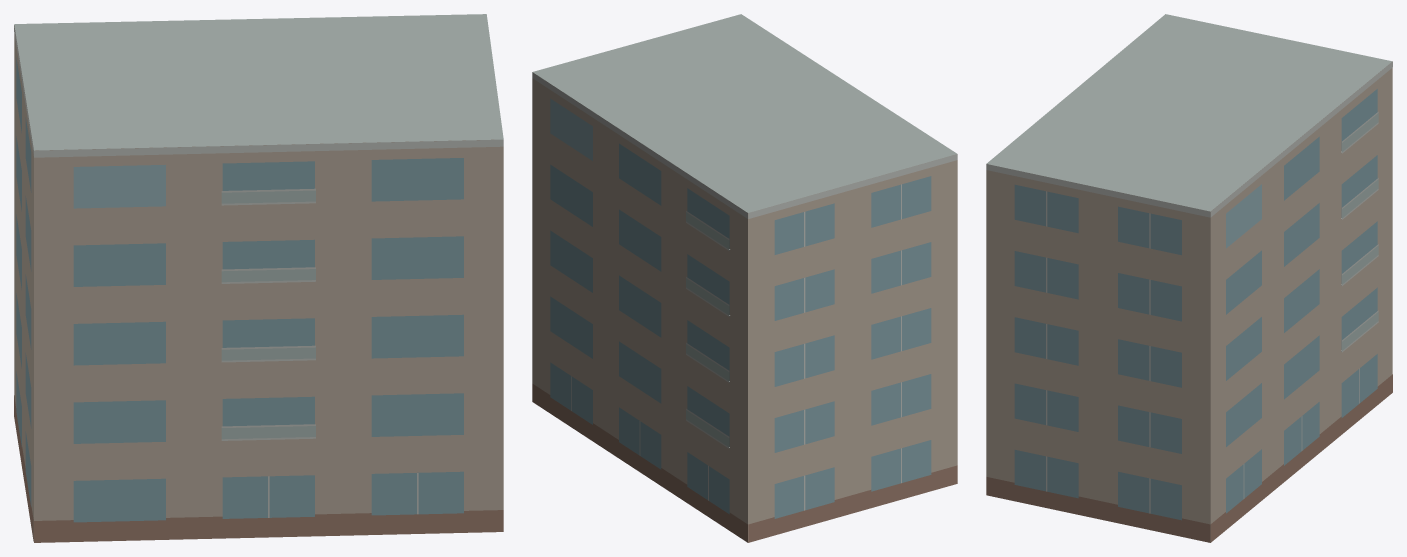
The model's file is survey-upis-32881825.glb.
3 views of the same model, side by side, from view 1: azimuth 30°, elevation 25°; view 2: azimuth 150°, elevation 25°; view 3: azimuth 270°, elevation 25° (orthographic). The views are drawn at different scales.
Parts seen in each view (by area): view 1: survey-upis-32881825.tmp; view 2: survey-upis-32881825.tmp; view 3: survey-upis-32881825.tmp.
Part boxes in pixels (box(x1,y1,x2,y2)): survey-upis-32881825.tmp: box(14, 14, 503, 542); survey-upis-32881825.tmp: box(532, 14, 957, 542); survey-upis-32881825.tmp: box(986, 14, 1392, 542).
Size of the model in its own units: 16.89 by 13.2 by 14.69.
